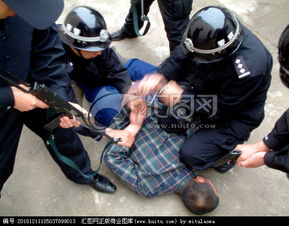fall: (106, 40, 210, 209)
